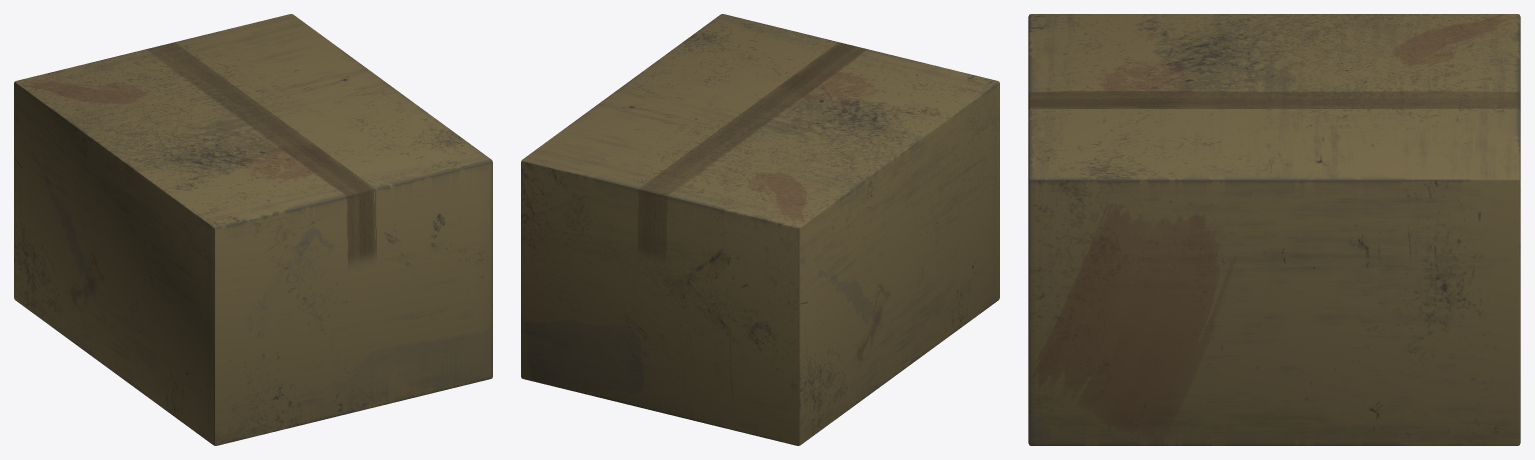
File: cardboard_box.gltf
The picture shows the model from 3 angles, left to right: view 1: azimuth 30°, elevation 25°; view 2: azimuth 150°, elevation 25°; view 3: azimuth 270°, elevation 25°; orthographic projection. The views are drawn at different scales.
Visible parts, largest first — view 1: cardboard_box; view 2: cardboard_box; view 3: cardboard_box.
Part boxes in pixels (x1,y1,x2,y2): cardboard_box: (14,14,492,445); cardboard_box: (521,14,999,445); cardboard_box: (1028,14,1520,445).
Bounding box in the file's own units: 0.4 × 0.3 × 0.5.
1 material, 1 textured.
